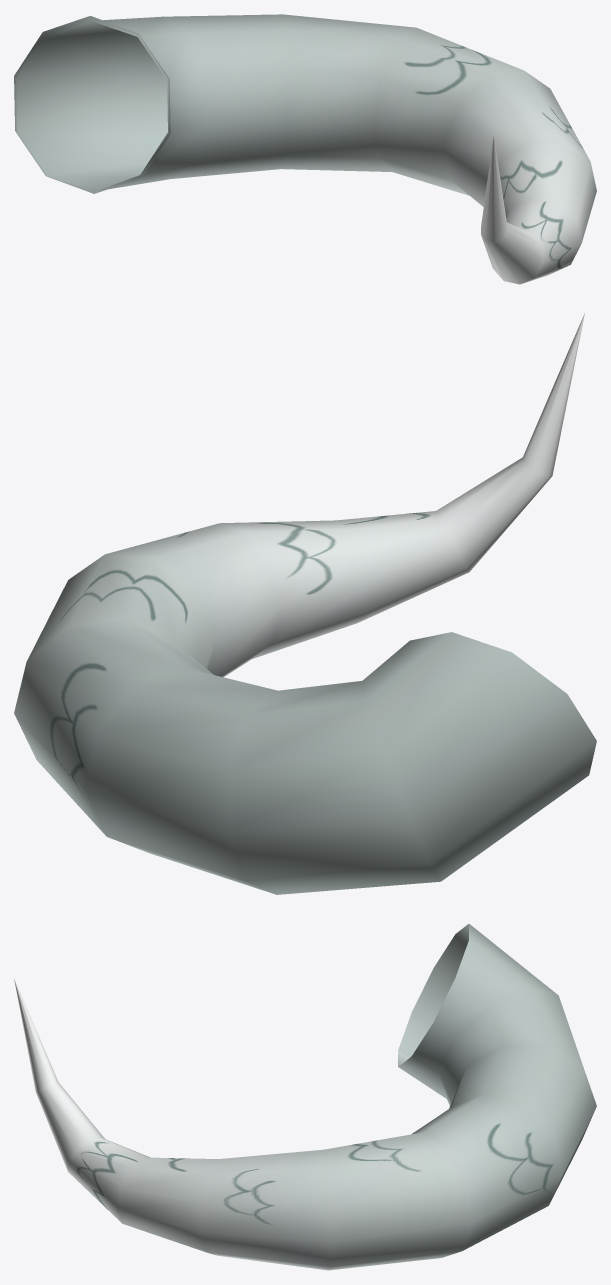
File: tail.fbx
3 views of the same model, one above another, from view 1: azimuth 30°, elevation 25°; view 2: azimuth 150°, elevation 25°; view 3: azimuth 270°, elevation 25° (orthographic). The views are drawn at different scales.
Visible parts, largest first — view 1: BezierCurve; view 2: BezierCurve; view 3: BezierCurve.
Boxes of the visible parts, x1,y1,x2,y2 form: BezierCurve: [14, 14, 596, 284]; BezierCurve: [14, 313, 596, 894]; BezierCurve: [14, 924, 596, 1270].
Size of the model in its own units: 200 by 93.96 by 233.
Materials: 1 (1 with a texture image).
